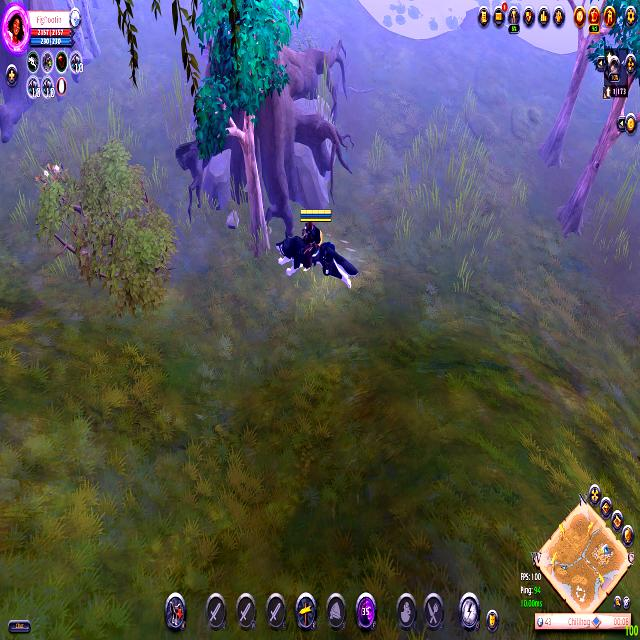hide: (33, 160, 72, 203)
red: (269, 208, 369, 302)
wisp caged: (186, 0, 307, 261), (552, 0, 640, 248), (538, 0, 630, 176), (58, 0, 105, 78)
